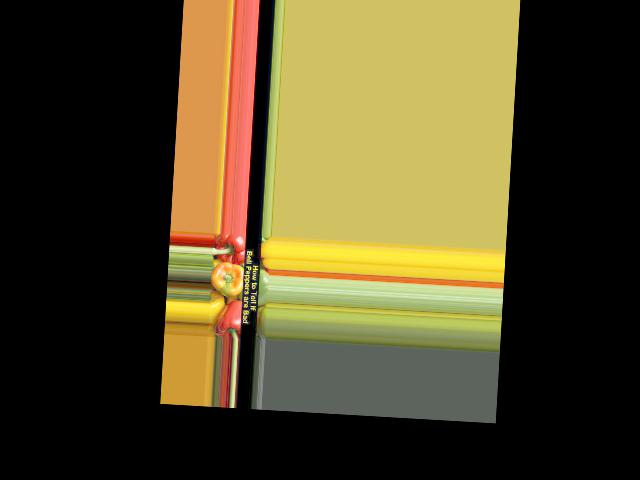bell_pepper: (211, 234, 247, 266)
